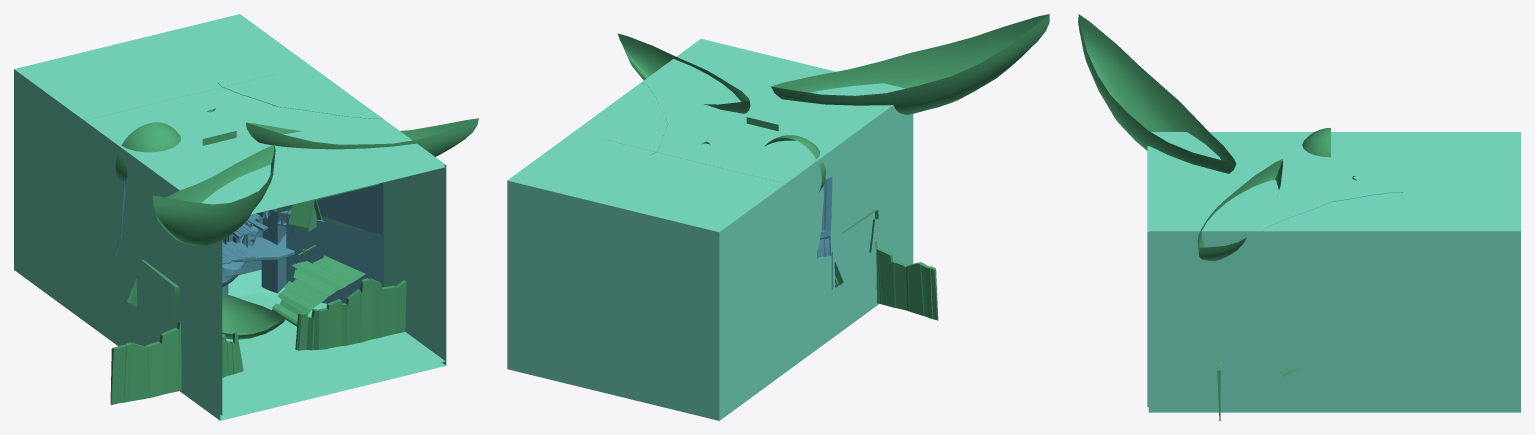
Rendered from RaymanLevelModels_Low.fbx.
The picture shows the model from 3 angles, left to right: view 1: azimuth 30°, elevation 25°; view 2: azimuth 150°, elevation 25°; view 3: azimuth 270°, elevation 25°; orthographic projection. The views are drawn at different scales.
Visible parts, largest first — view 1: Skybox1_Low, StuccoWalls_Low, BottomRightGreenHouse_Low, Hammock26_Low, ForegroundRightFence_Low, ForegroundLeftFence_Low, ForegroundRightFence1_Low, Hammock23_Low, UpperRightPinkHouse_Low, Hammock11_Low, TopLeftBallAboveWoodHouse_Low, BottomRightDirtPlatform_Low (+2 smaller); view 2: Skybox1_Low, Hammock26_Low, ForegroundLeftFence_Low, Hammock23_Low, LeftBuildingBackwall2_Low, TopLeftBallAboveWoodHouse_Low; view 3: Skybox1_Low, Hammock26_Low, Hammock23_Low, TopLeftBallAboveWoodHouse_Low, StuccoWalls_Low.
Part boxes in pixels (x1=…): Skybox1_Low: x1=14, y1=14, x2=446, y2=420; StuccoWalls_Low: x1=220, y1=165, x2=445, y2=415; BottomRightGreenHouse_Low: x1=261, y1=209, x2=383, y2=303; Hammock26_Low: x1=152, y1=145, x2=275, y2=246; ForegroundRightFence_Low: x1=295, y1=278, x2=406, y2=350; ForegroundLeftFence_Low: x1=110, y1=321, x2=243, y2=404; ForegroundRightFence1_Low: x1=272, y1=255, x2=365, y2=326; Hammock23_Low: x1=246, y1=118, x2=478, y2=156; UpperRightPinkHouse_Low: x1=290, y1=182, x2=383, y2=234; Hammock11_Low: x1=222, y1=293, x2=283, y2=332; TopLeftBallAboveWoodHouse_Low: x1=115, y1=122, x2=180, y2=181; BottomRightDirtPlatform_Low: x1=222, y1=210, x2=324, y2=261; Skybox1_Low: x1=507, y1=38, x2=913, y2=420; Hammock26_Low: x1=771, y1=14, x2=1049, y2=114; ForegroundLeftFence_Low: x1=874, y1=241, x2=938, y2=320; Hammock23_Low: x1=617, y1=33, x2=750, y2=113; LeftBuildingBackwall2_Low: x1=816, y1=177, x2=832, y2=258; TopLeftBallAboveWoodHouse_Low: x1=764, y1=135, x2=825, y2=192; Skybox1_Low: x1=1148, y1=132, x2=1520, y2=412; Hammock26_Low: x1=1078, y1=14, x2=1236, y2=173; Hammock23_Low: x1=1197, y1=159, x2=1282, y2=261; TopLeftBallAboveWoodHouse_Low: x1=1302, y1=128, x2=1330, y2=157; StuccoWalls_Low: x1=1147, y1=146, x2=1148, y2=407.
Bounding box in the file's own units: 27.79 × 18.91 × 30.08.
